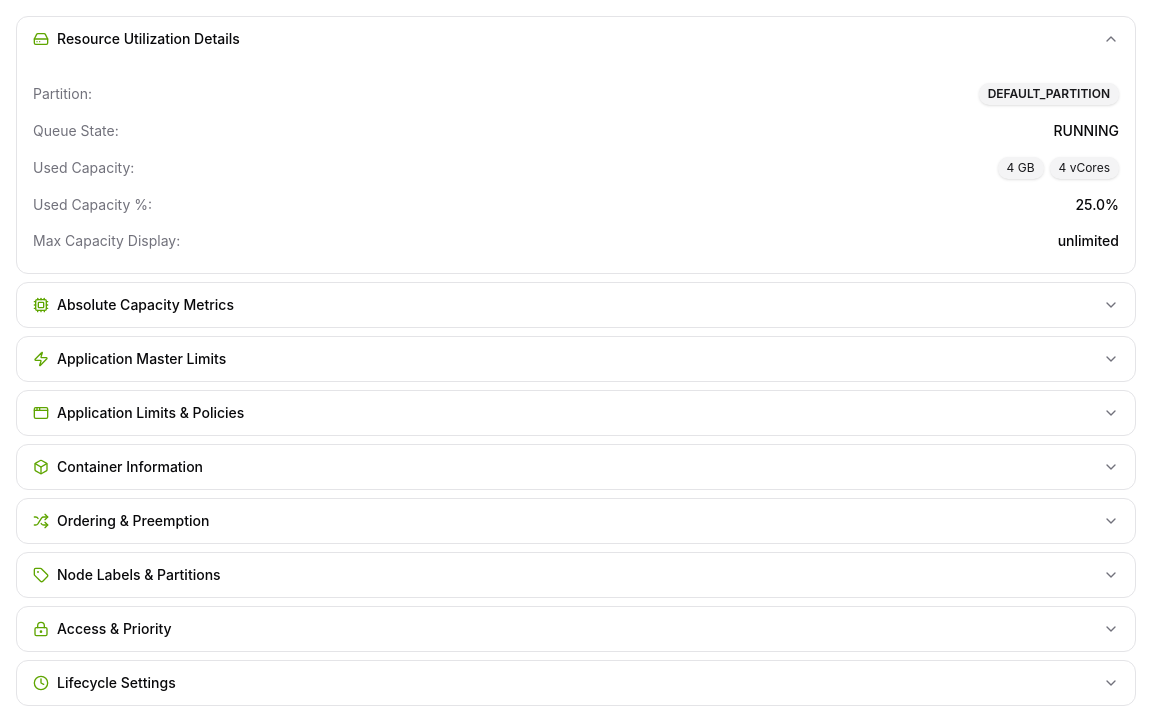
QueueInfoTab › Application Master Limits section › should display "No AM limit data available" when no AM data present
The width and height of the screenshot is (1152, 710).
Click the button "Application Master Limits" at (142, 358), box [17, 337, 1135, 381]
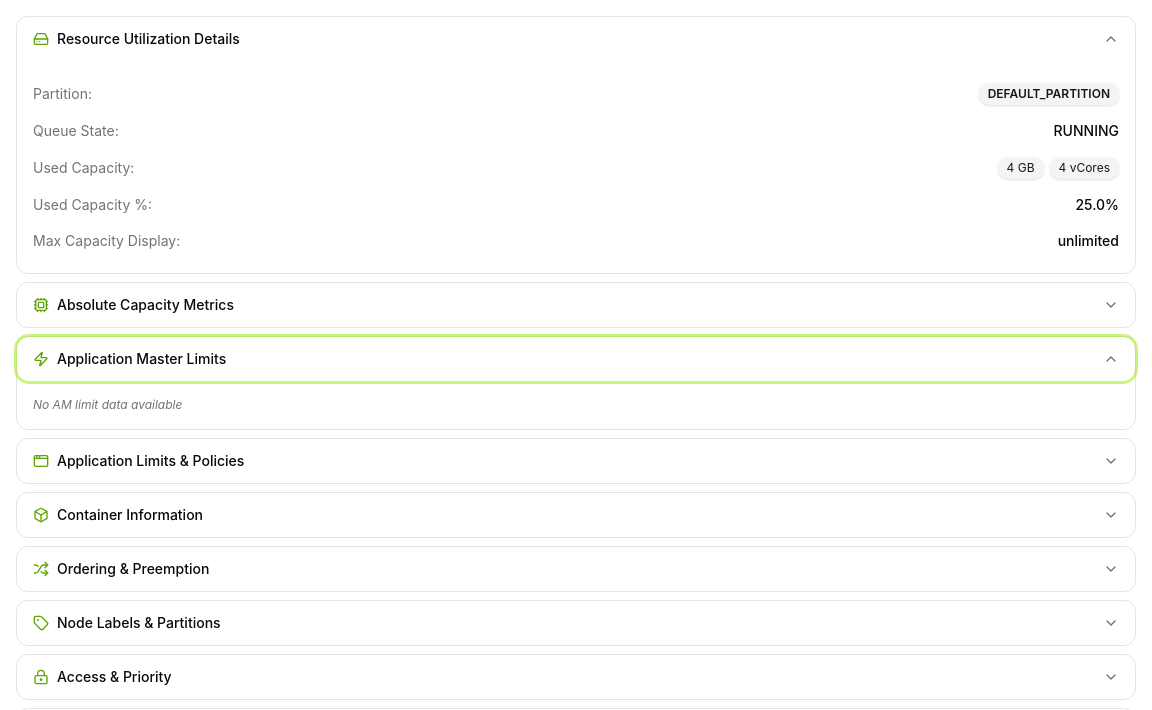
Result: the text "No AM limit data available" is shown at [33, 397, 182, 412]
